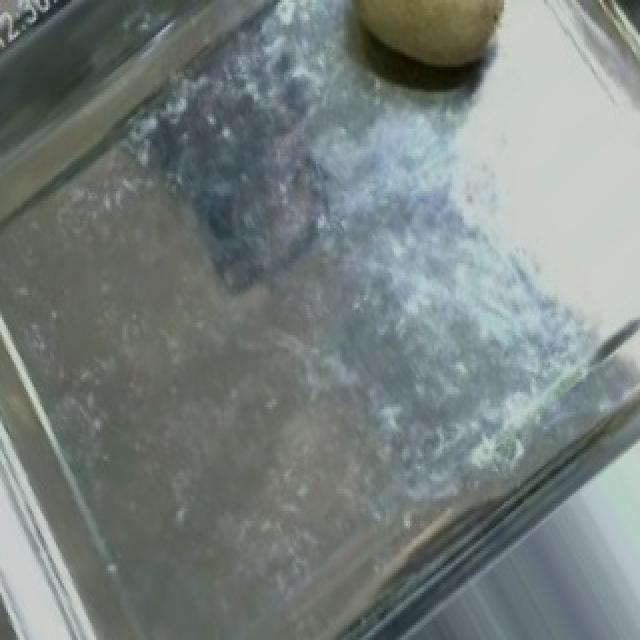Fruit: (320, 0, 538, 97)
